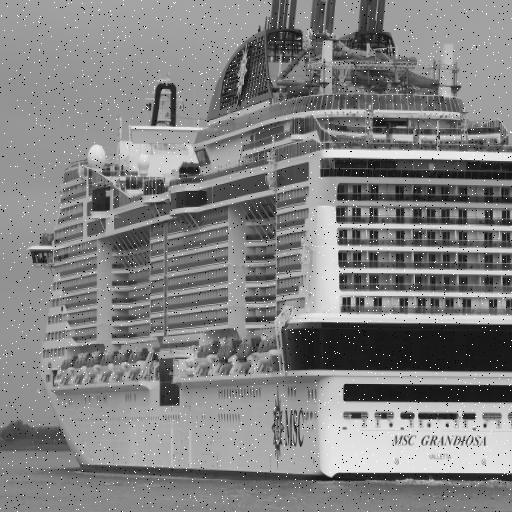cruises: (30, 1, 512, 492)
